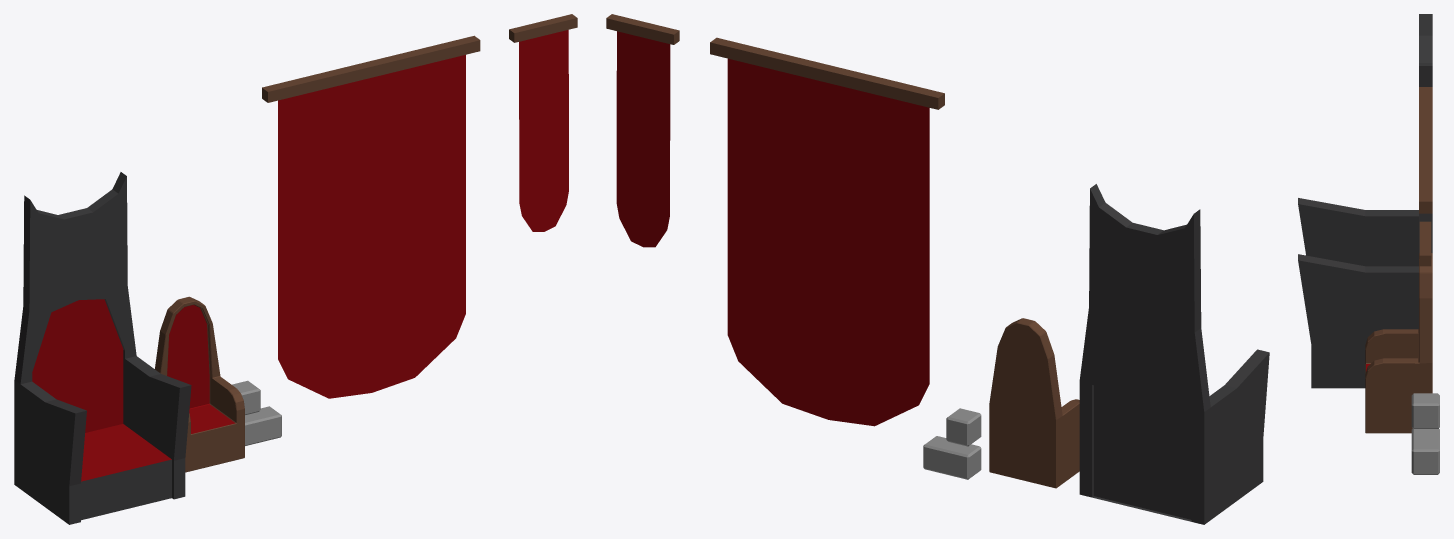
File: CastleBits.fbx
3 renders of one model, left to right at view 1: azimuth 30°, elevation 25°; view 2: azimuth 150°, elevation 25°; view 3: azimuth 270°, elevation 25°, orthographic. The views are drawn at different scales.
Parts seen in each view (by area): view 1: BannerLarge, ThroneLarge, BannerSmall, ThroneSmall, LooseBrickLarge; view 2: BannerLarge, ThroneLarge, BannerSmall, ThroneSmall, LooseBrickLarge, LooseBrickSmall; view 3: ThroneLarge, ThroneSmall, BannerLarge, LooseBrickLarge, LooseBrickSmall, BannerSmall.
Part boxes in pixels (<box>): BannerLarge: <box>262,35,480,398</box>; ThroneLarge: <box>14,172,191,524</box>; BannerSmall: <box>509,14,577,231</box>; ThroneSmall: <box>155,296,244,472</box>; LooseBrickLarge: <box>245,406,281,445</box>; BannerLarge: <box>710,37,944,426</box>; ThroneLarge: <box>1079,184,1269,524</box>; BannerSmall: <box>606,14,679,247</box>; ThroneSmall: <box>989,318,1079,488</box>; LooseBrickLarge: <box>923,436,981,479</box>; LooseBrickSmall: <box>946,408,981,446</box>; ThroneLarge: <box>1298,14,1432,388</box>; ThroneSmall: <box>1365,253,1432,433</box>; BannerLarge: <box>1419,87,1432,213</box>; LooseBrickLarge: <box>1411,428,1439,474</box>; LooseBrickSmall: <box>1411,393,1439,428</box>; BannerSmall: <box>1419,221,1431,266</box>.
Size of the model in its own units: 10556 by 6268 by 2110.
